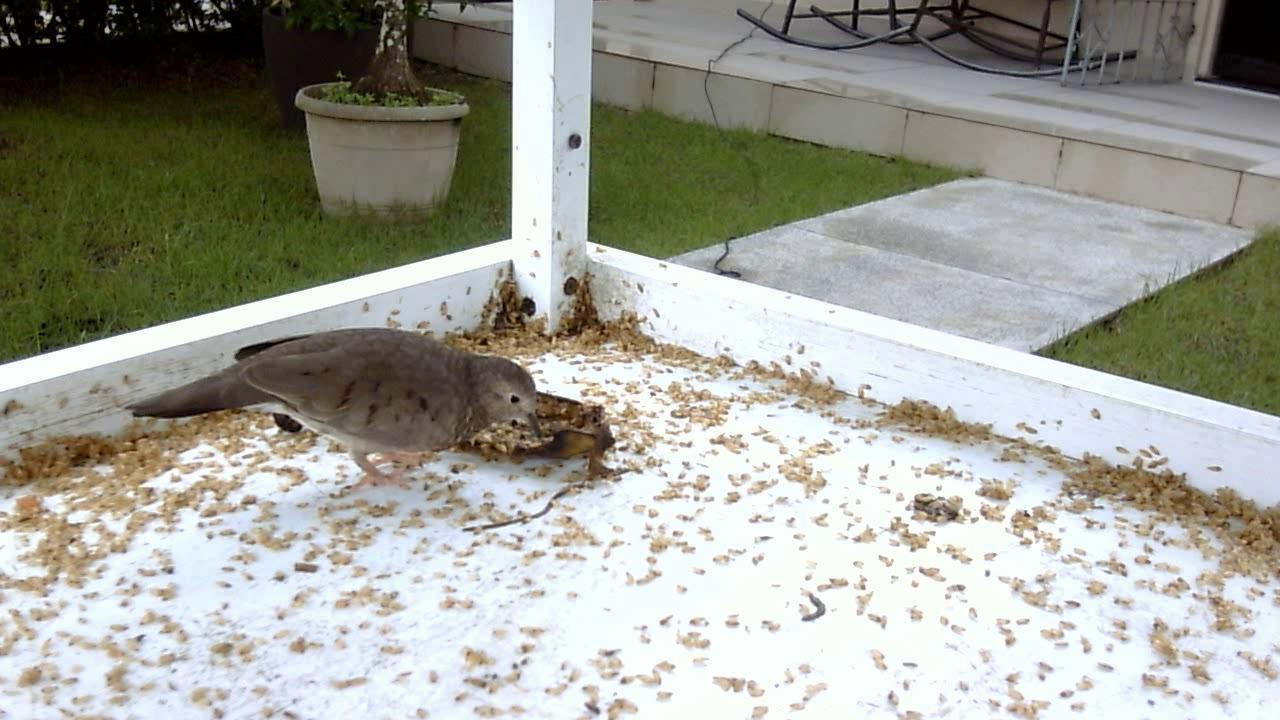rolinha: (111, 321, 584, 504)
